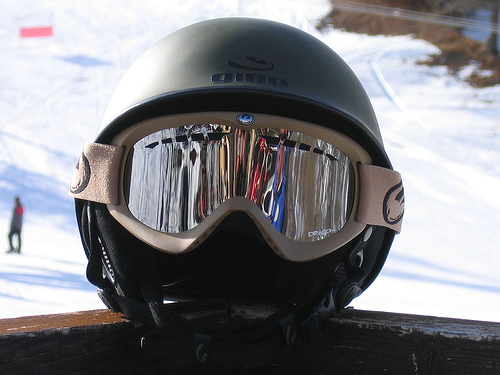helmet: (77, 18, 415, 304)
